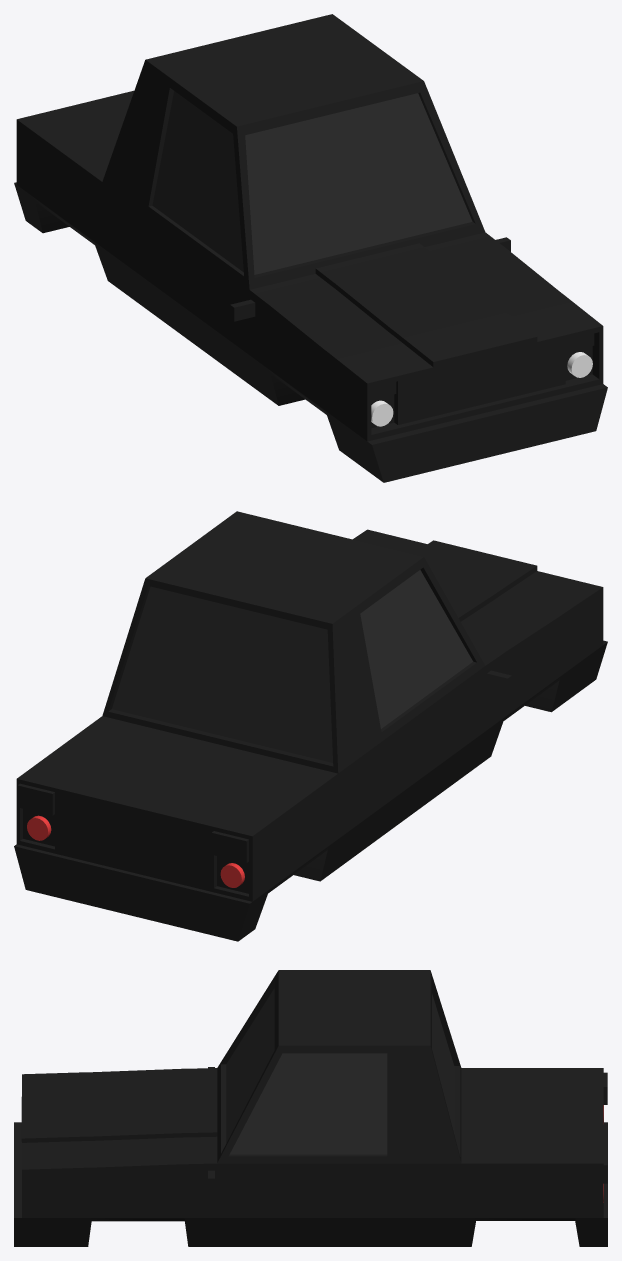
File: LP_Car2_2.obj
3 views of the same model, one above another, from view 1: azimuth 30°, elevation 25°; view 2: azimuth 150°, elevation 25°; view 3: azimuth 270°, elevation 25° (orthographic). The views are drawn at different scales.
Visible parts, largest first — view 1: Cylinder004; view 2: Cylinder004; view 3: Cylinder004.
Boxes of the visible parts, x1,y1,x2,y2 form: Cylinder004: (14,14,607,482); Cylinder004: (14,511,607,941); Cylinder004: (14,970,607,1246).
Size of the model in its own units: 24.66 by 20.14 by 55.29.
